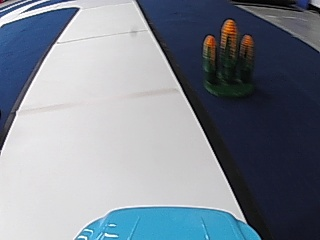corn: (200, 16, 257, 100)
